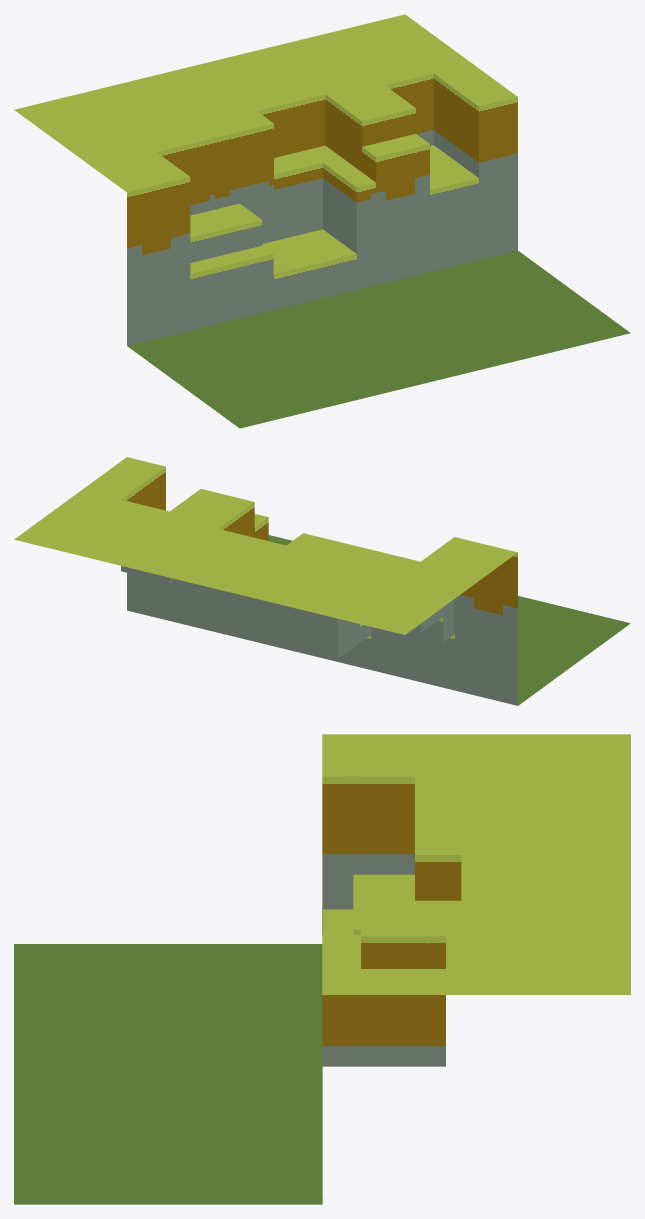
File: MMLL(3).glb
3 renders of one model, top to bottom at view 1: azimuth 30°, elevation 25°; view 2: azimuth 150°, elevation 25°; view 3: azimuth 270°, elevation 25°, orthographic. The views are drawn at different scales.
Visible parts, largest first — view 1: model_0.026; view 2: model_0.026; view 3: model_0.026.
Boxes of the visible parts, box(x1,y1,x2,y2) form: model_0.026: box(14, 14, 630, 428); model_0.026: box(14, 457, 630, 705); model_0.026: box(14, 734, 630, 1204).
Size of the model in its own units: 80 by 30 by 80.
Materials: 1 (1 with a texture image).
